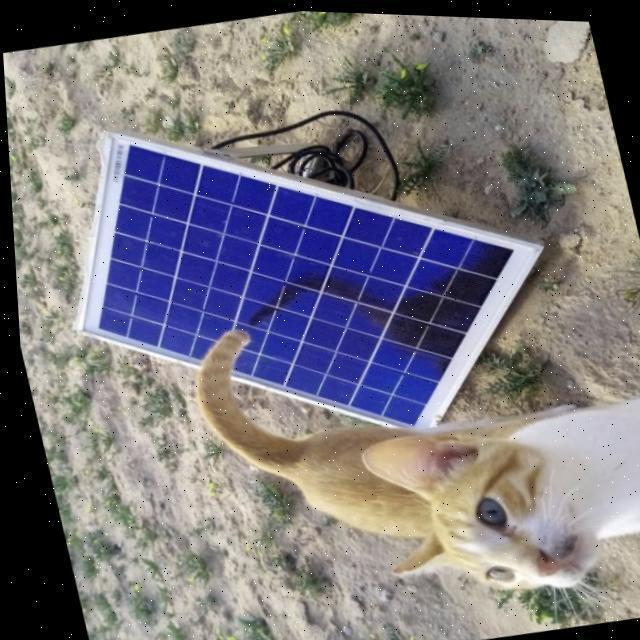Normal Solar Panel: (31, 59, 578, 484)
